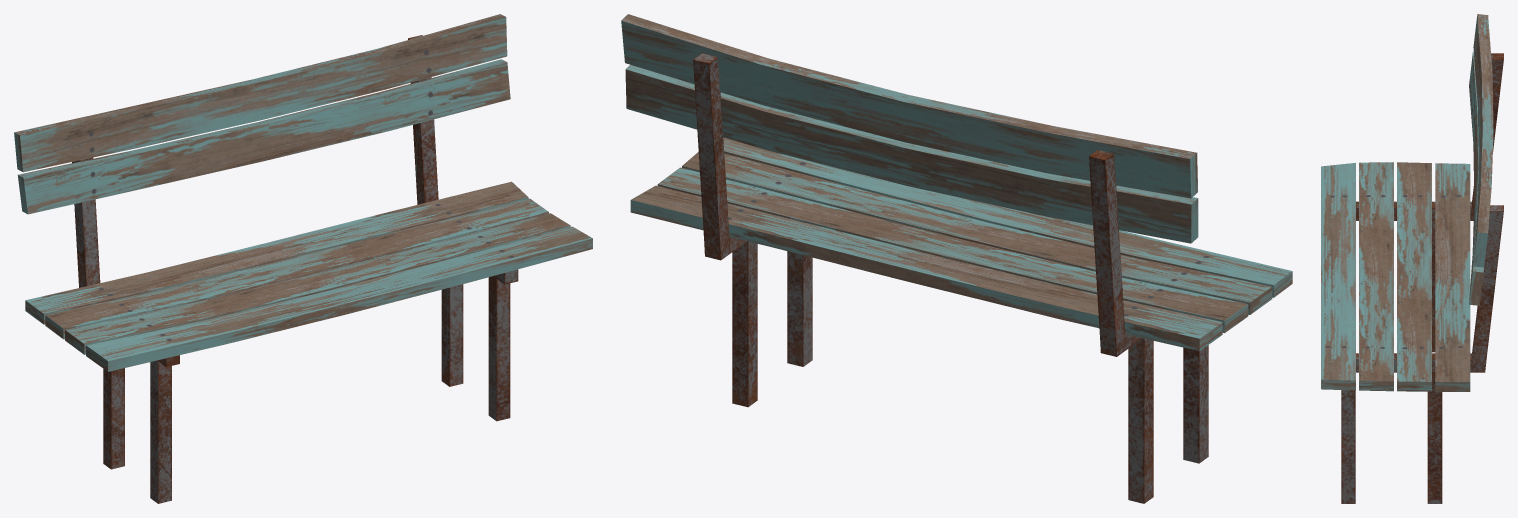
The model's file is bench (2).glb.
The picture shows the model from 3 angles, left to right: view 1: azimuth 30°, elevation 25°; view 2: azimuth 150°, elevation 25°; view 3: azimuth 270°, elevation 25°; orthographic projection. The views are drawn at different scales.
Parts seen in each view (by area): view 1: klupa2_klupa2_0; view 2: klupa2_klupa2_0; view 3: klupa2_klupa2_0.
Part boxes in pixels (x1,y1,x2,y2): klupa2_klupa2_0: (14,14,592,503); klupa2_klupa2_0: (621,14,1292,503); klupa2_klupa2_0: (1321,14,1503,503).
Size of the model in its own units: 142 by 91.85 by 50.2.
Materials: 1 (1 with a texture image).
